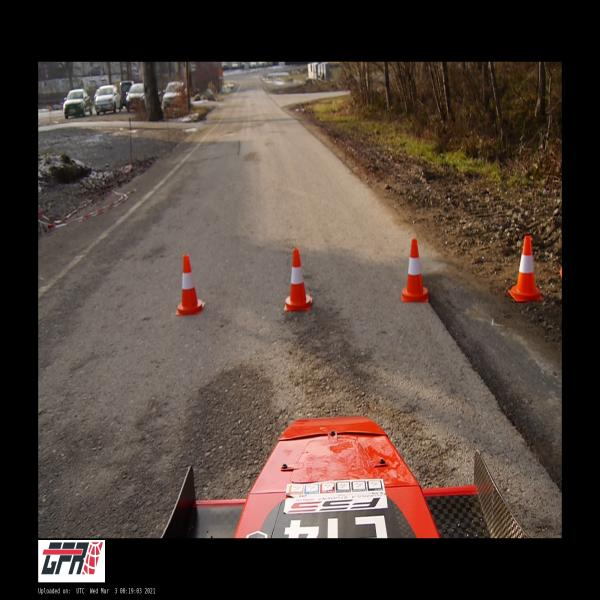orange_cone: (508, 236, 543, 301), (175, 255, 205, 315), (284, 248, 312, 310), (402, 238, 428, 302)
